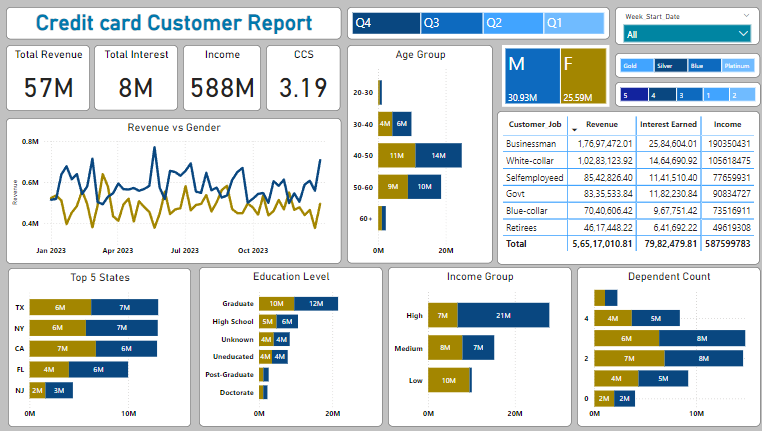

The dashboard page shown, as its layout file describes it:
{"tool":"powerbi","page":{"name":"Page 2","canvas":[1280,720],"ordinal":1},"visuals":[{"type":"textbox","title":"Credit card Customer Report","box":[12.9,11.4,558.6,54.3],"z":0},{"type":"card","title":"Total Revenue","fields":{"Values":["Sum(credit_details.Revenue)"]},"box":[12.8,75.1,140.3,110],"z":1000},{"type":"card","title":"Total Interest","fields":{"Values":["Sum(credit_details.Interest_Earned)"]},"box":[160,75.7,140,108.6],"z":2000},{"type":"card","title":"Income","fields":{"Values":["Sum(cust_detail.Income)"]},"box":[308.6,74.3,130,110],"z":3000},{"type":"card","title":"CCS","fields":{"Values":["Avg(cust_detail.Cust_Satisfaction_Score)"]},"box":[447,74.3,124.3,110],"z":4000},{"type":"treemap","fields":{"Group":["credit_details.Qtr"],"Values":["Avg(credit_details.Client_Num)"]},"box":[581.1,12.2,437.8,54.4],"z":5000},{"type":"slicer","fields":{"Values":["credit_details.Week_Start_Date"]},"box":[1028.9,11.1,241.1,63.3],"z":6000},{"type":"lineChart","title":"Revenue vs Gender","fields":{"Y":["Sum(credit_details.Revenue)"],"Series":["cust_detail.Gender"],"Category":["credit_details.Week_Start_Date.Variation.Date Hierarchy.Year","credit_details.Week_Start_Date.Variation.Date Hierarchy.Month","credit_details.Week_Start_Date.Variation.Date Hierarchy.Day"]},"box":[12.9,197.1,558.6,242.9],"z":7000},{"type":"treemap","fields":{"Group":["cust_detail.Gender"],"Values":["Sum(credit_details.Revenue)"]},"box":[840,74.4,178.9,103.3],"z":8000},{"type":"barChart","title":"Age Group","fields":{"Category":["cust_detail.AgeGroup"],"Series":["cust_detail.Gender"],"Y":["Sum(credit_details.Revenue)"]},"box":[581.4,75.7,242.9,364.3],"z":9000},{"type":"tableEx","fields":{"Values":["cust_detail.Customer_Job","Sum(credit_details.Revenue)","Sum(credit_details.Interest_Earned)","Sum(cust_detail.Income)"]},"box":[832.2,184.4,437.8,255.6],"z":10000},{"type":"actionButton","box":[0,0,100,40],"z":11000},{"type":"barChart","title":"Top 5 States","fields":{"Y":["Sum(credit_details.Revenue)"],"Category":["cust_detail.State_cd"],"Series":["cust_detail.Gender"]},"box":[16.7,446,305,265],"z":12000},{"type":"barChart","title":"Education Level","fields":{"Y":["Sum(credit_details.Revenue)"],"Series":["cust_detail.Gender"],"Category":["cust_detail.Education_Level"]},"box":[334.3,445.7,305.7,265.7],"z":13000},{"type":"barChart","title":"Income Group","fields":{"Y":["Sum(credit_details.Revenue)"],"Series":["cust_detail.Gender"],"Category":["cust_detail.IncomeGroup"]},"box":[650,445.7,305.7,265.7],"z":14000},{"type":"barChart","title":"Dependent Count","fields":{"Y":["Sum(credit_details.Revenue)"],"Series":["cust_detail.Gender"],"Category":["cust_detail.Dependent_Count"]},"box":[965.7,445.7,305.7,265.7],"z":15000},{"type":"treemap","fields":{"Values":["Avg(credit_details.Client_Num)"],"Group":["cust_detail.Cust_Satisfaction_Score"]},"box":[1028.9,136.7,243.3,41.1],"z":16000},{"type":"treemap","fields":{"Group":["credit_details.Card_Category"],"Values":["Avg(credit_details.Client_Num)"]},"box":[1027.7,88,242.2,41],"z":17000}]}

Visuals, with their boxes in screenshot pixels (x1, y1, x2, y2), scaled from the page's 1280x720 canvas onto the 762x431 screenshot:
"Credit card Customer Report" textbox: [8, 7, 340, 39]
"Total Revenue" card: [8, 45, 91, 111]
"Total Interest" card: [95, 45, 179, 110]
"Income" card: [184, 44, 261, 110]
"CCS" card: [266, 44, 340, 110]
treemap - credit_details.Qtr x Avg(credit_details.Client_Num): [346, 7, 607, 40]
slicer - credit_details.Week_Start_Date: [613, 7, 756, 45]
"Revenue vs Gender" lineChart: [8, 118, 340, 263]
treemap - cust_detail.Gender x Sum(credit_details.Revenue): [500, 45, 607, 106]
"Age Group" barChart: [346, 45, 491, 263]
tableEx - cust_detail.Customer_Job x Sum(credit_details.Revenue): [495, 110, 756, 263]
actionButton: [0, 0, 60, 24]
"Top 5 States" barChart: [10, 267, 192, 426]
"Education Level" barChart: [199, 267, 381, 426]
"Income Group" barChart: [387, 267, 569, 426]
"Dependent Count" barChart: [575, 267, 757, 426]
treemap - Avg(credit_details.Client_Num) x cust_detail.Cust_Satisfaction_Score: [613, 82, 757, 106]
treemap - credit_details.Card_Category x Avg(credit_details.Client_Num): [612, 53, 756, 77]
